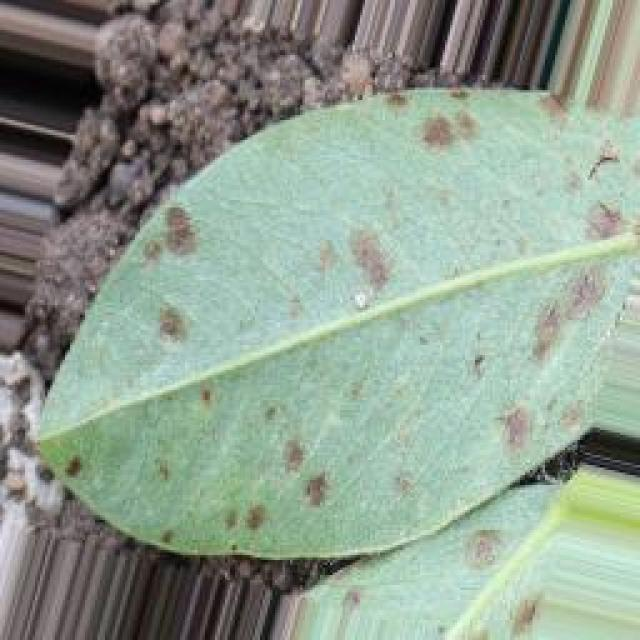Whitefly: (97, 99, 632, 598)
